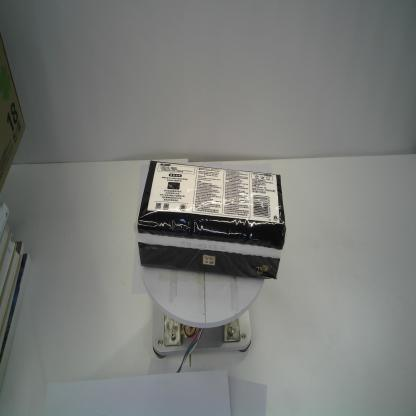Tissue: (136, 160, 287, 280)
